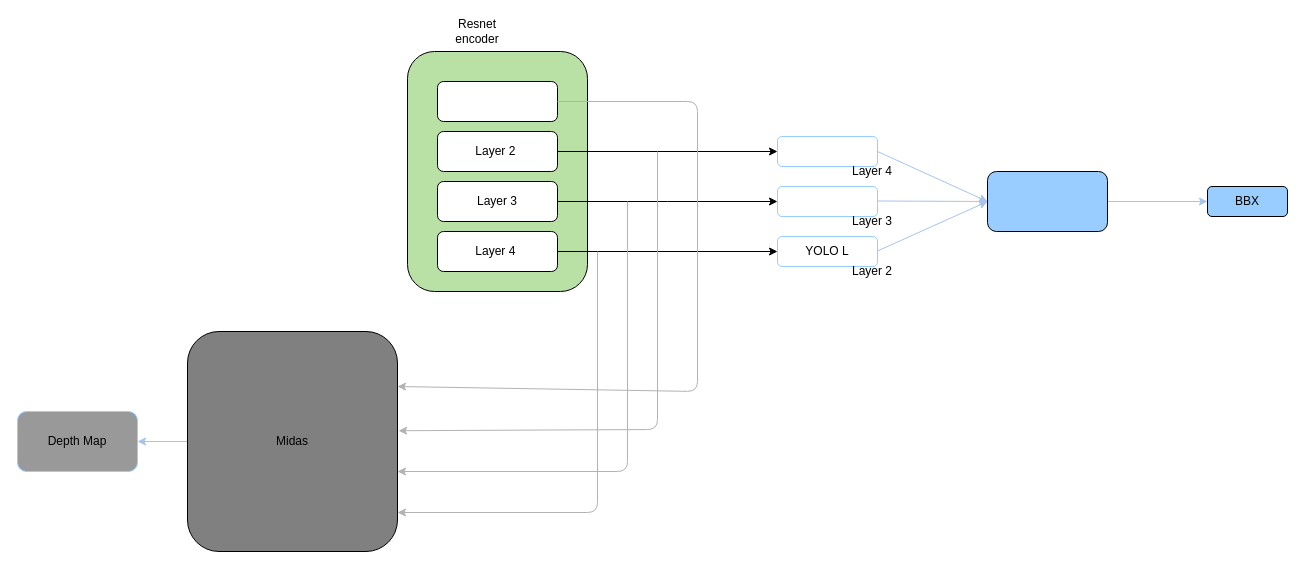
The diagram is 1305 pixels wide and 569 high, and some of its shapes have lost their labels. Here are the shapes that lost their labels. From the top down, the centre of each, then its label:
point 497,101: Layer 1
point 827,151: YOLO S
point 827,201: YOLO M
point 1047,201: BB- Decoder DARKNET
